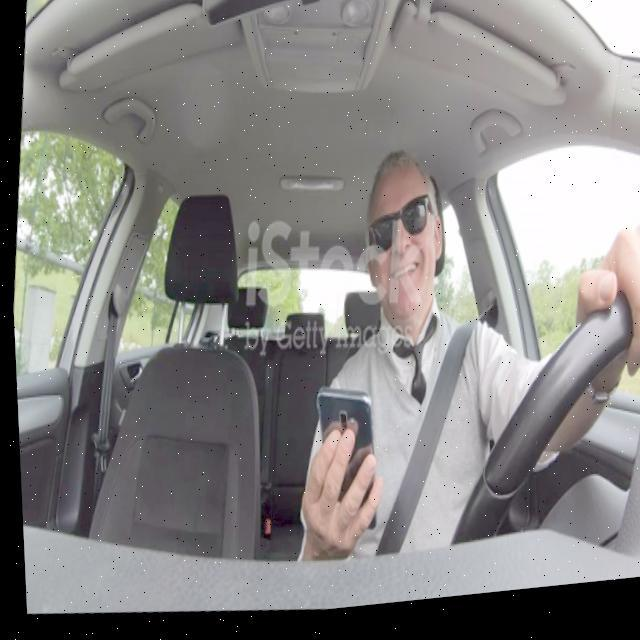PhoneCall: (300, 388, 380, 544)
